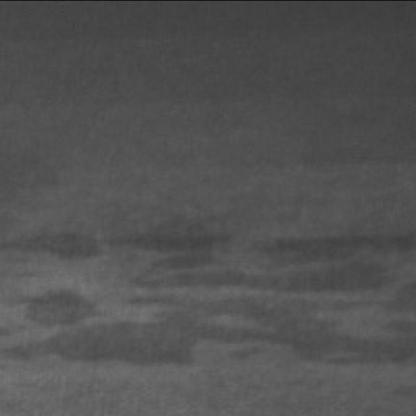inclusion: (4, 225, 410, 372)
